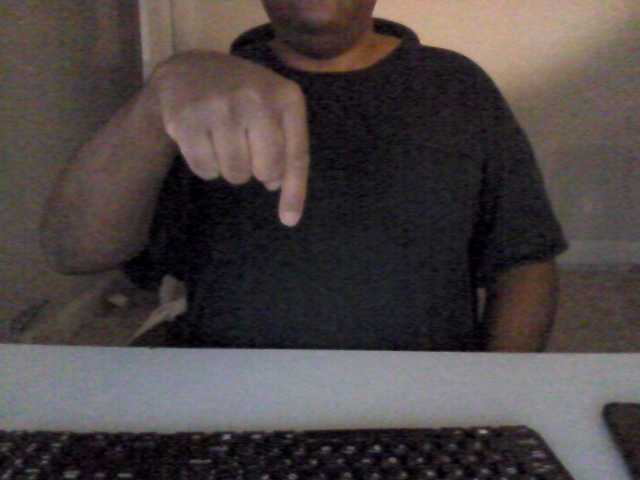down: (156, 46, 318, 237)
